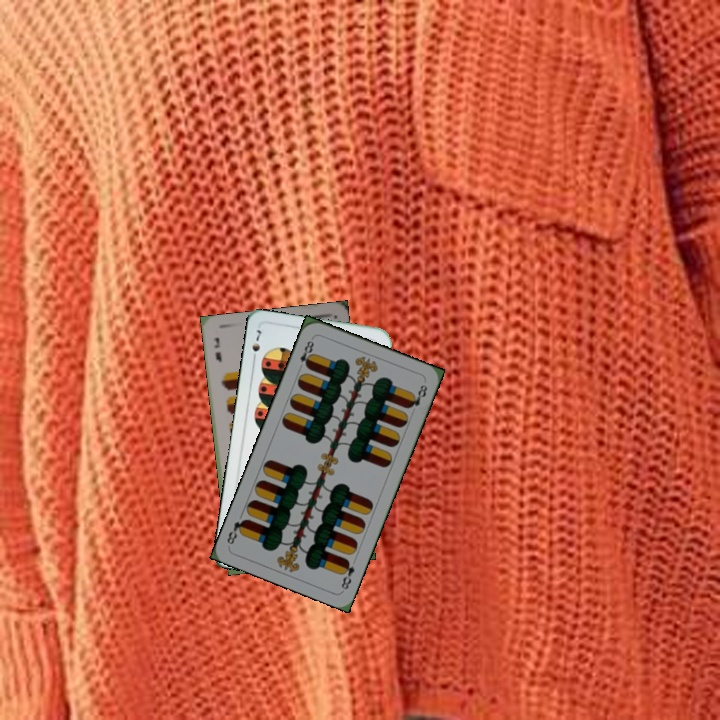E7: (210, 333, 224, 365)
E8: (294, 334, 317, 373), (337, 555, 357, 592)
S7: (248, 326, 264, 365)
